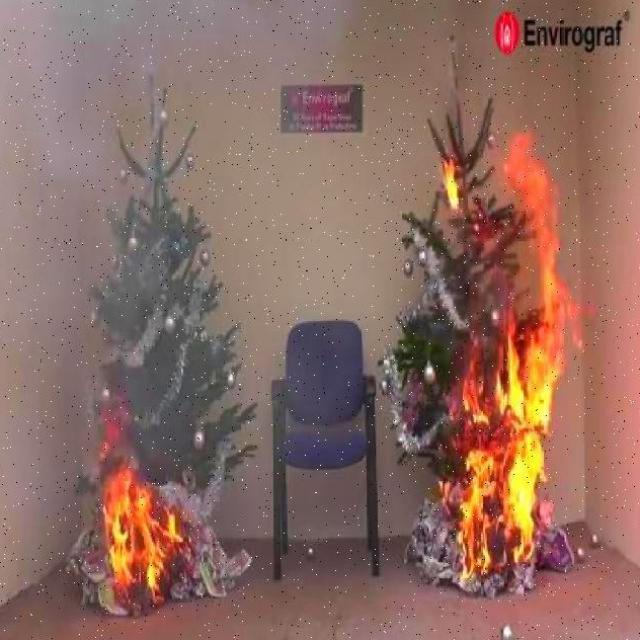smoke: (445, 137, 566, 570), (102, 459, 188, 606)
